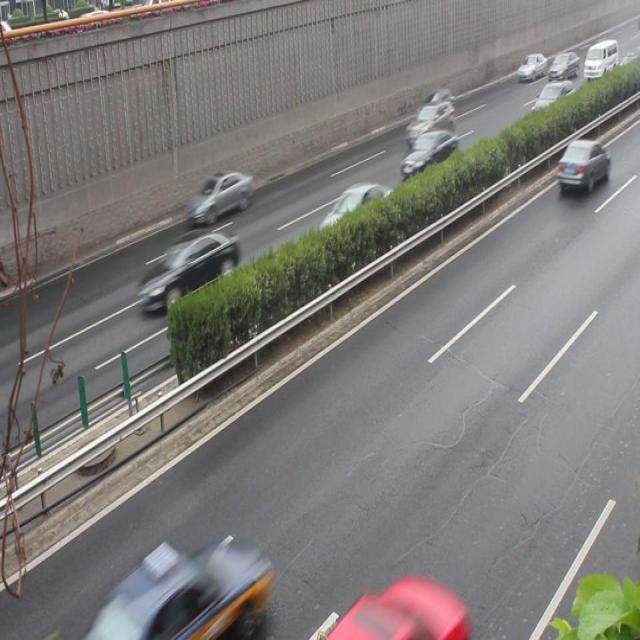car: (140, 232, 239, 312), (313, 183, 395, 248), (184, 166, 253, 224), (555, 138, 608, 193), (397, 130, 456, 178), (405, 102, 454, 150), (531, 81, 573, 126), (417, 90, 452, 126)
